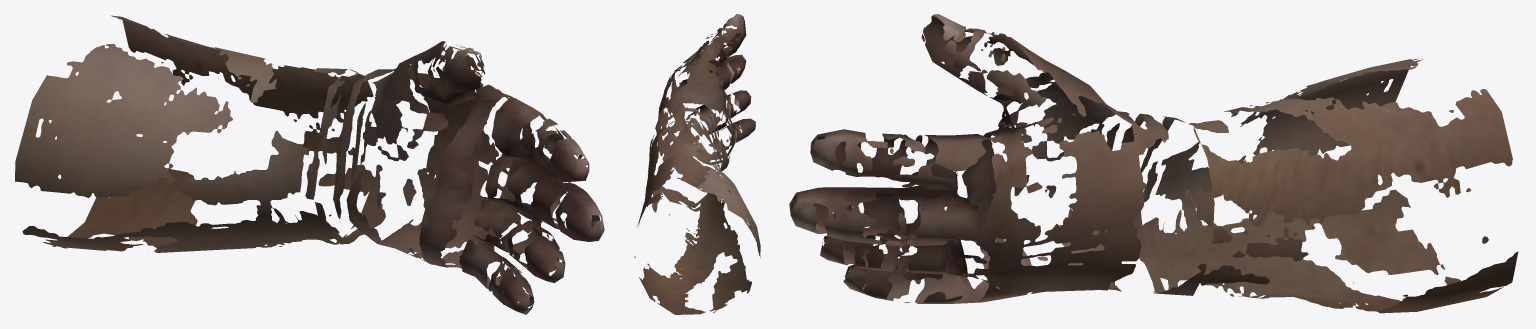
File: BottomLeftHend.obj
The picture shows the model from 3 angles, left to right: view 1: azimuth 30°, elevation 25°; view 2: azimuth 150°, elevation 25°; view 3: azimuth 270°, elevation 25°; orthographic projection. The views are drawn at different scales.
Visible parts, largest first — view 1: rdmobj01.002; view 2: rdmobj01.002; view 3: rdmobj01.002.
Boxes of the visible parts, x1=… form: rdmobj01.002: x1=15, y1=15, x2=604, y2=314; rdmobj01.002: x1=634, y1=14, x2=760, y2=314; rdmobj01.002: x1=789, y1=14, x2=1518, y2=313.
Size of the model in its own units: 0.8109 by 0.7453 by 1.39.
Materials: 1 (1 with a texture image).
